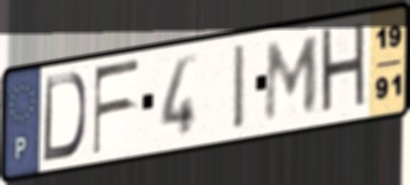4: (158, 52, 200, 140)
D: (40, 70, 89, 165)
F: (91, 56, 142, 159)
H: (319, 18, 369, 121)
I: (232, 40, 248, 134)
M: (261, 32, 323, 125)
